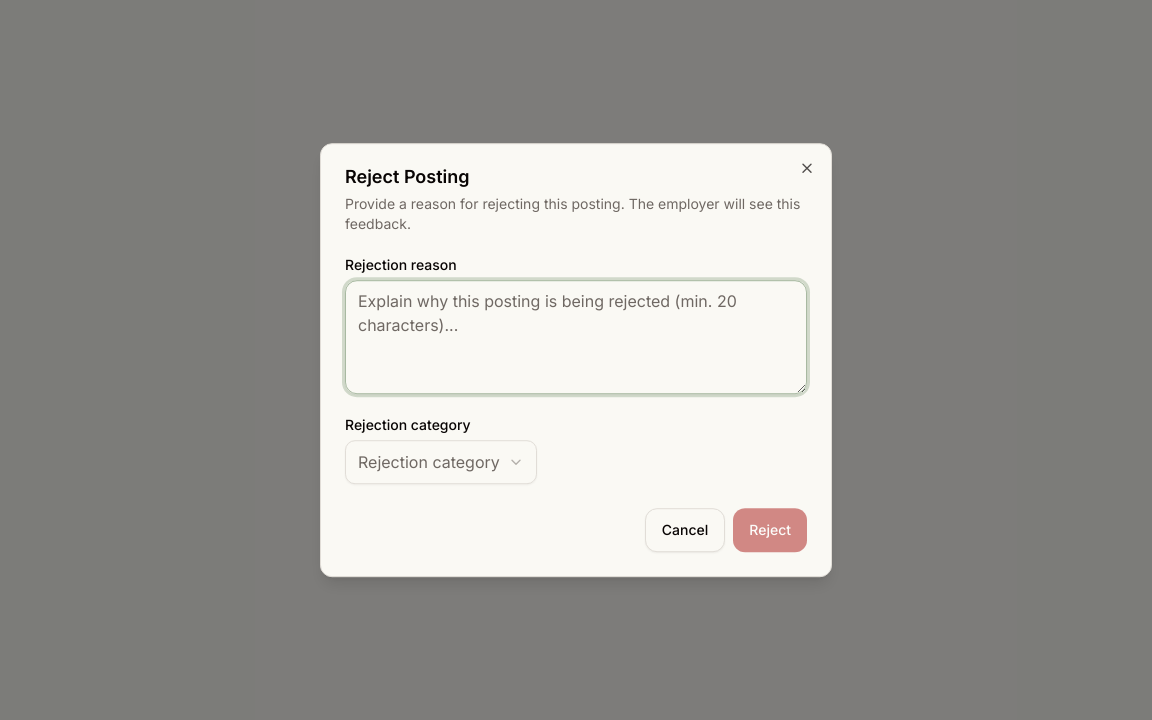
Test: RejectPostingModal › shows confirmation step after clicking proceed
This screenshot has width=1152, height=720.
Step 1. Type "This posting violates community guidelines." into the text box with test id "reject-reason-textarea" → (576, 337), box [345,280,807,394]
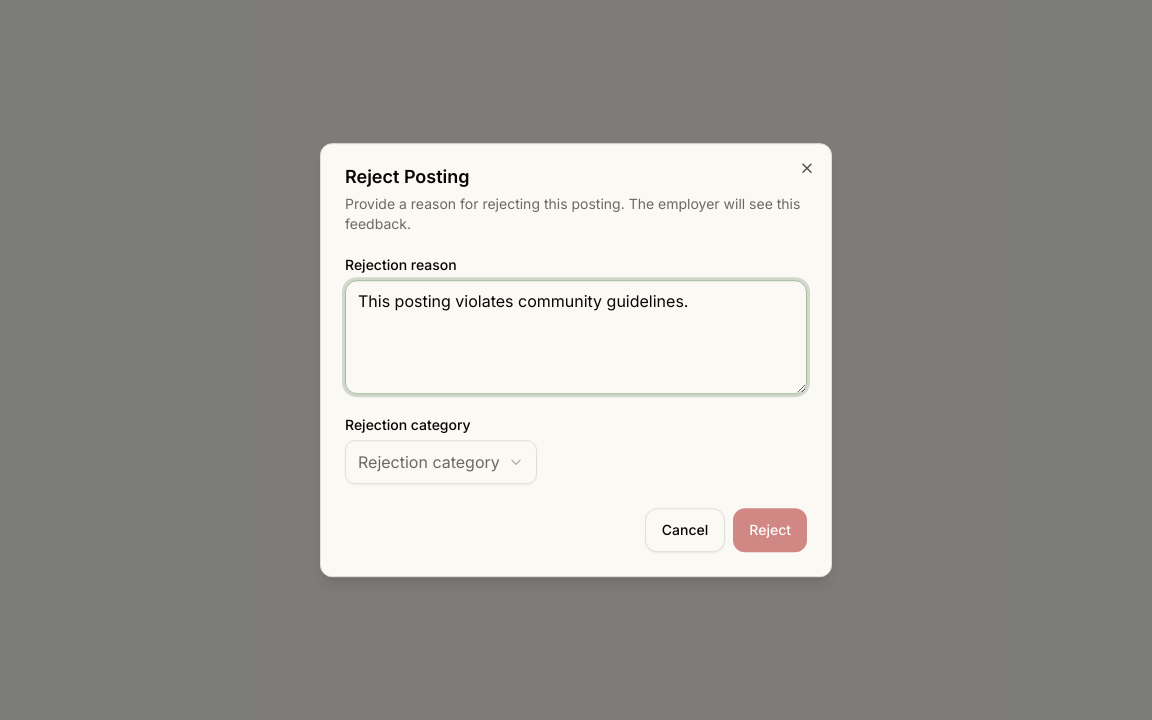
Step 2. Click the dropdown with test id "reject-category-select" → (441, 462), box [345,440,537,484]
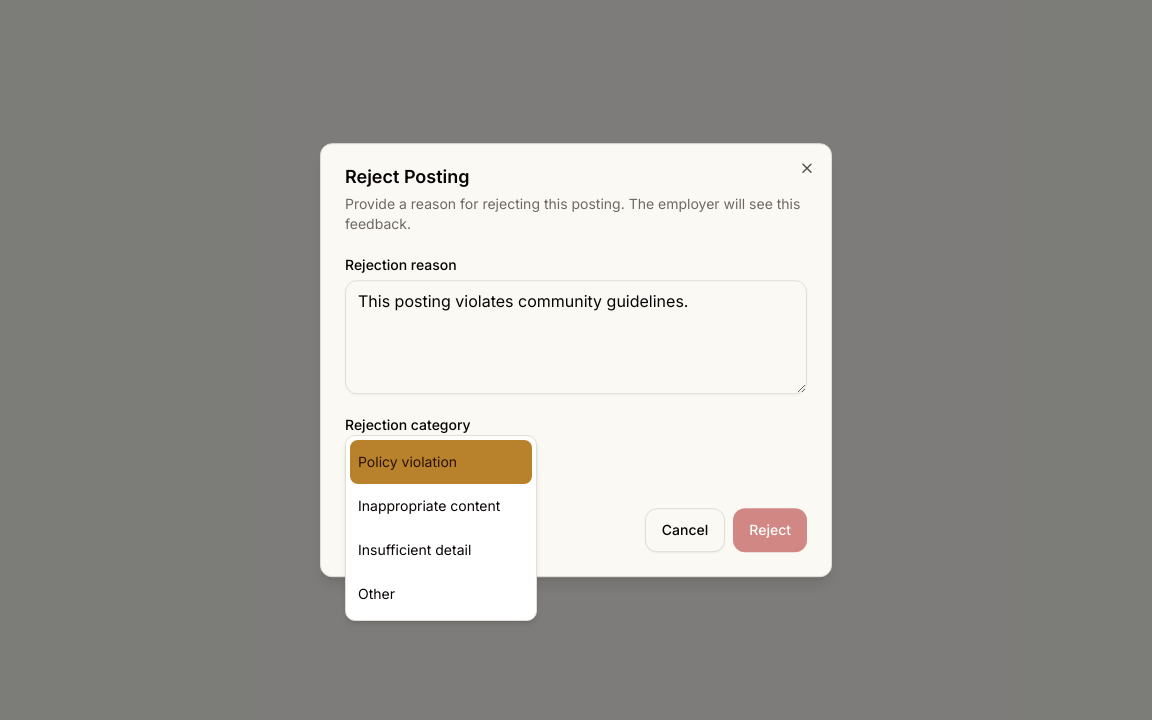
Step 3. Click the option "Other" → (376, 593), box [358,585,395,602]
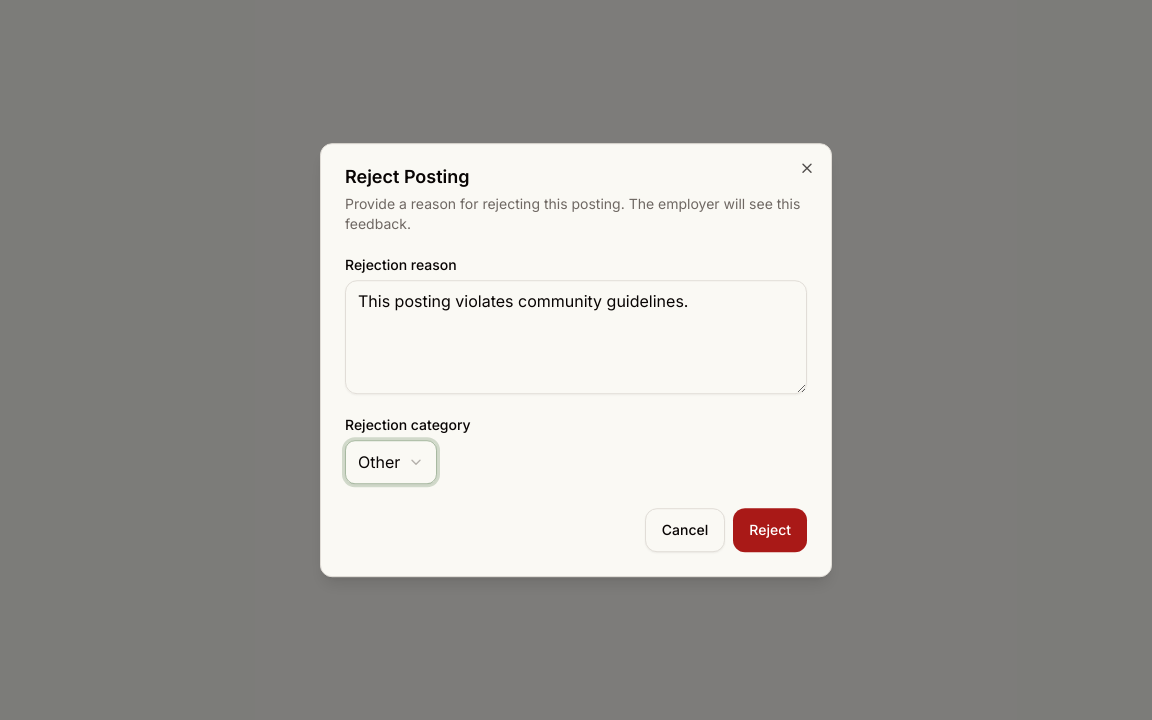
Step 4. Click the button with test id "reject-proceed-button" → (770, 530), box [733,508,807,552]
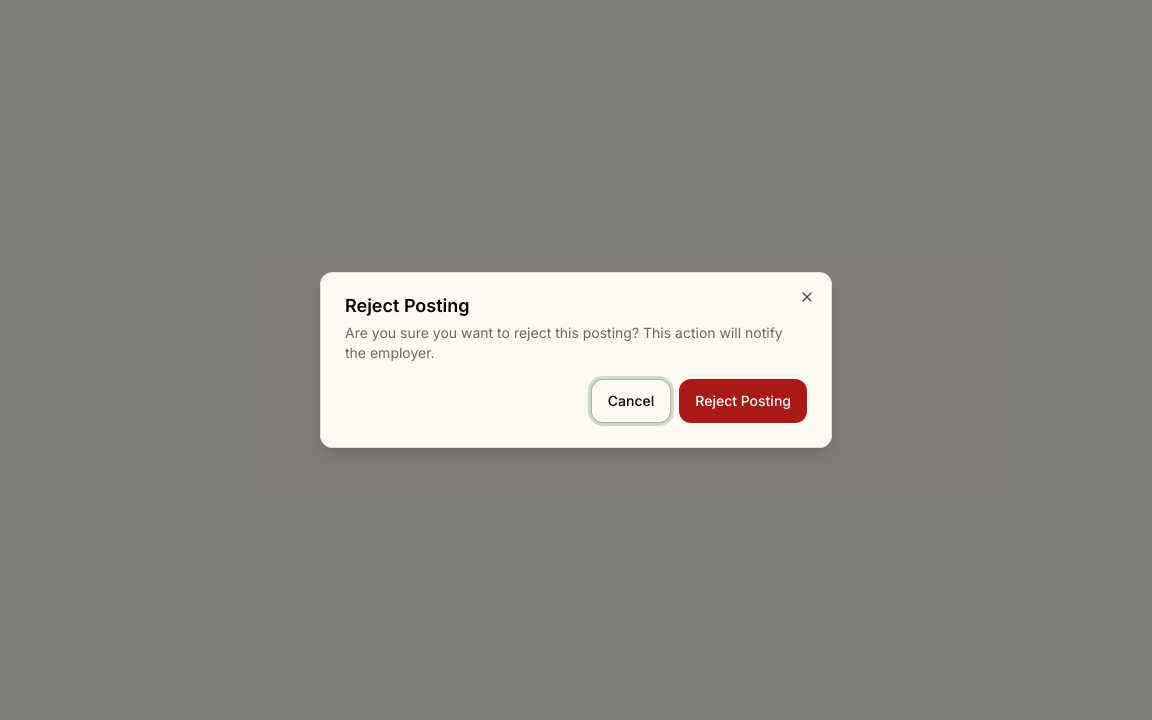
Expected: the button with test id "reject-confirm-cancel" is shown, [591,379,671,423]
Expected: the button with test id "reject-confirm-button" is shown, [679,379,807,423]
